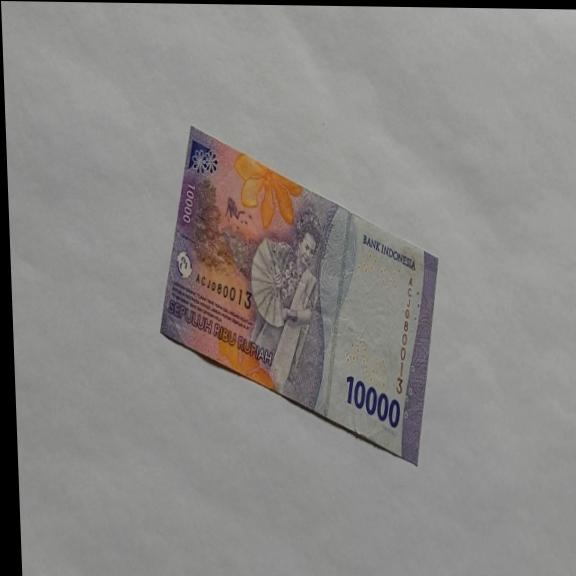Kertas: (151, 123, 446, 469), (344, 374, 402, 430)
